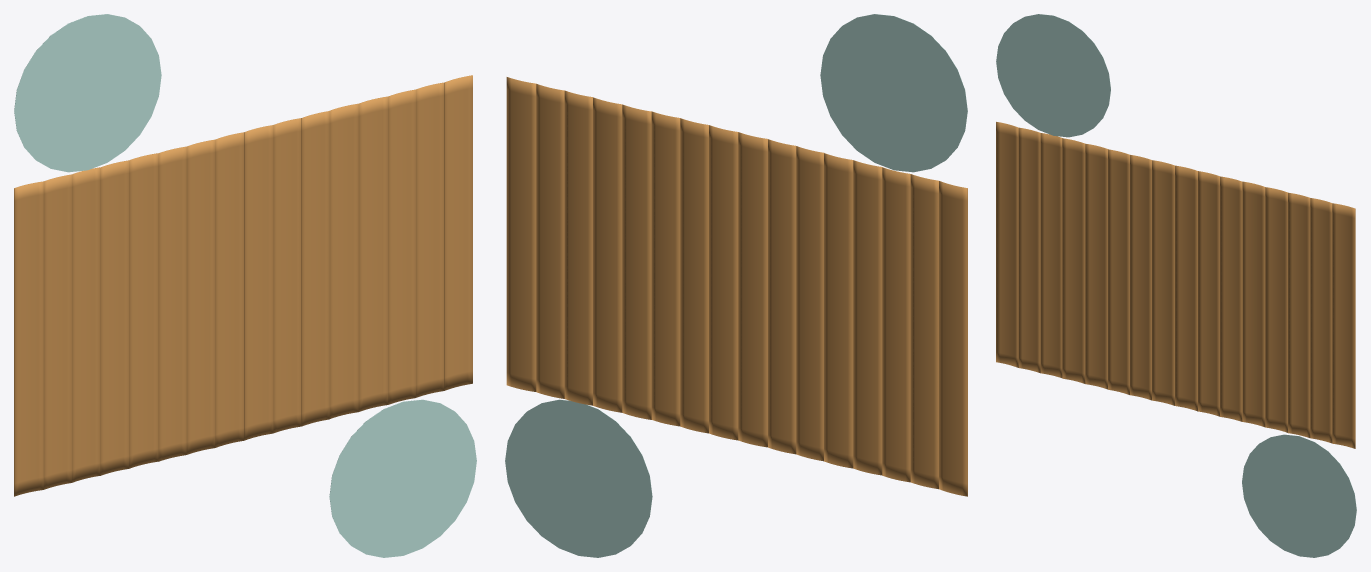
3 views of the same model, side by side, from view 1: azimuth 30°, elevation 25°; view 2: azimuth 150°, elevation 25°; view 3: azimuth 330°, elevation 25° (orthographic). The views are drawn at different scales.
Parts seen in each view (by area): view 1: 未命名.016, 未命名.017, 未命名.008, 未命名.011, 未命名, 未命名.004, 未命名.012, 未命名.003, 未命名.010, 未命名.001, 未命名.007, 未命名.005 (+6 smaller); view 2: 未命名.017, 未命名.016, 未命名.015, 未命名.003, 未命名.004, 未命名.008, 未命名.012, 未命名.007, 未命名.011, 未命名.010, 未命名.013, 未命名 (+6 smaller); view 3: 未命名.016, 未命名.017, 未命名.003, 未命名.011, 未命名.015, 未命名, 未命名.007, 未命名.001, 未命名.004, 未命名.008, 未命名.010, 未命名.012 (+6 smaller).
Boxes of the visible parts, box(x1,y1,x2,y2) form: 未命名.016: box(329, 399, 476, 557); 未命名.017: box(14, 14, 161, 172); 未命名.008: box(244, 125, 273, 440); 未命名.011: box(329, 103, 358, 418); 未命名: box(14, 181, 43, 496); 未命名.004: box(129, 153, 158, 468); 未命名.012: box(358, 96, 387, 411); 未命名.003: box(100, 160, 128, 475); 未命名.010: box(301, 111, 329, 426); 未命名.001: box(43, 174, 71, 489); 未命名.007: box(215, 132, 243, 447); 未命名.005: box(158, 146, 186, 461); 未命名.017: box(820, 14, 967, 172); 未命名.016: box(505, 399, 652, 557); 未命名.015: box(506, 77, 536, 391); 未命名.003: box(853, 160, 882, 475); 未命名.004: box(824, 153, 853, 468); 未命名.008: box(709, 125, 738, 440); 未命名.012: box(593, 97, 622, 412); 未命名.007: box(738, 132, 767, 447); 未命名.011: box(622, 104, 651, 419); 未命名.010: box(651, 111, 680, 426); 未命名.013: box(564, 90, 592, 405); 未命名: box(939, 181, 967, 496); 未命名.016: box(1242, 434, 1356, 557); 未命名.017: box(996, 14, 1110, 137); 未命名.003: box(1062, 138, 1085, 383); 未命名.011: box(1242, 181, 1265, 427); 未命名.015: box(1332, 203, 1355, 448); 未命名: box(996, 121, 1018, 367); 未命名.007: box(1152, 160, 1174, 405); 未命名.001: box(1018, 127, 1040, 373); 未命名.004: box(1085, 143, 1107, 389); 未命名.008: box(1175, 165, 1197, 411); 未命名.010: box(1220, 176, 1242, 421); 未命名.012: box(1265, 187, 1287, 432).
Size of the model in its own units: 3.99 by 5.08 by 0.0358.
